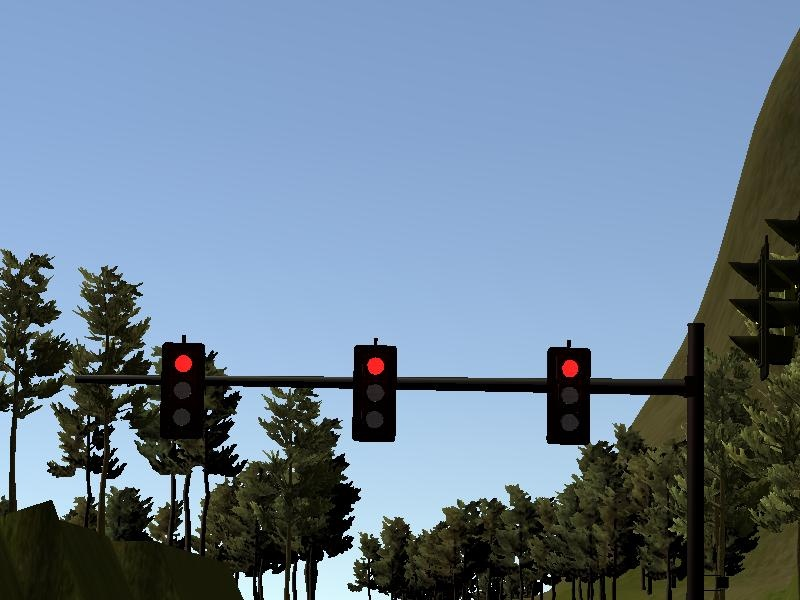red: (159, 340, 206, 439), (353, 343, 400, 442), (543, 348, 590, 447)
